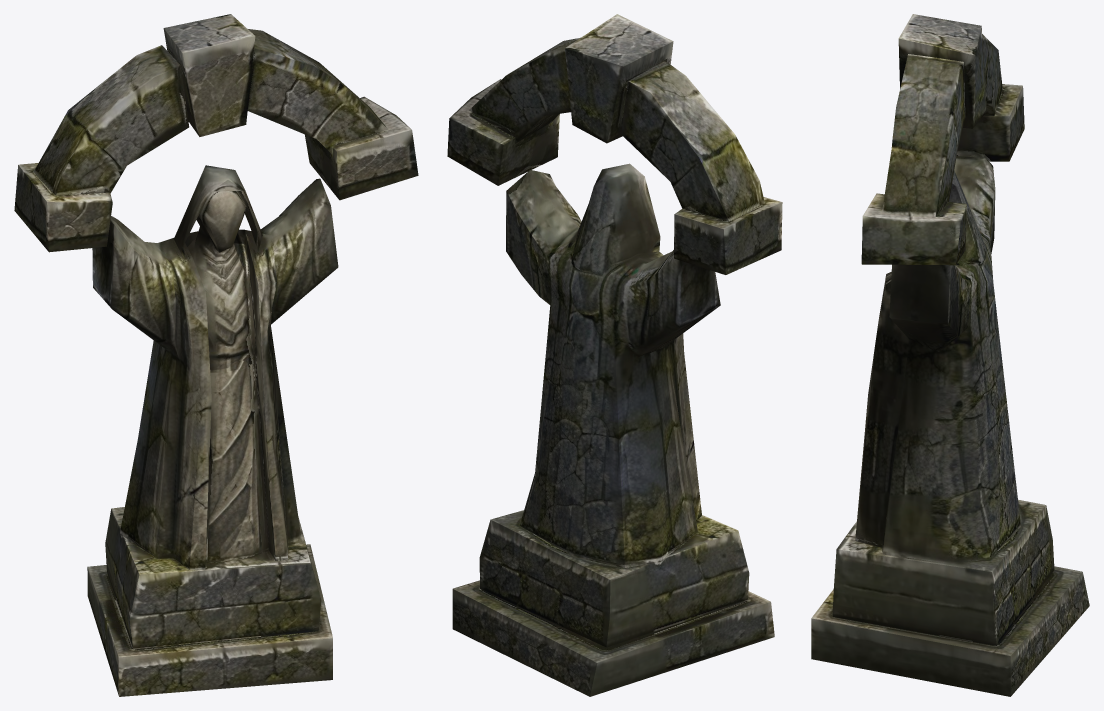
File: act1_kit_v1_saint_statue_arch.glb
3 views of the same model, side by side, from view 1: azimuth 30°, elevation 25°; view 2: azimuth 150°, elevation 25°; view 3: azimuth 270°, elevation 25° (orthographic). The views are drawn at different scales.
Parts seen in each view (by area): view 1: A02_5_saint_statue_arch; view 2: A02_5_saint_statue_arch; view 3: A02_5_saint_statue_arch.
Part boxes in pixels (<box>): A02_5_saint_statue_arch: <box>14,14,418,696</box>; A02_5_saint_statue_arch: <box>447,14,782,696</box>; A02_5_saint_statue_arch: <box>811,14,1089,696</box>.
Bounding box in the file's own units: 0.5665 × 1 × 0.4174.
Materials: 1 (1 with a texture image).
